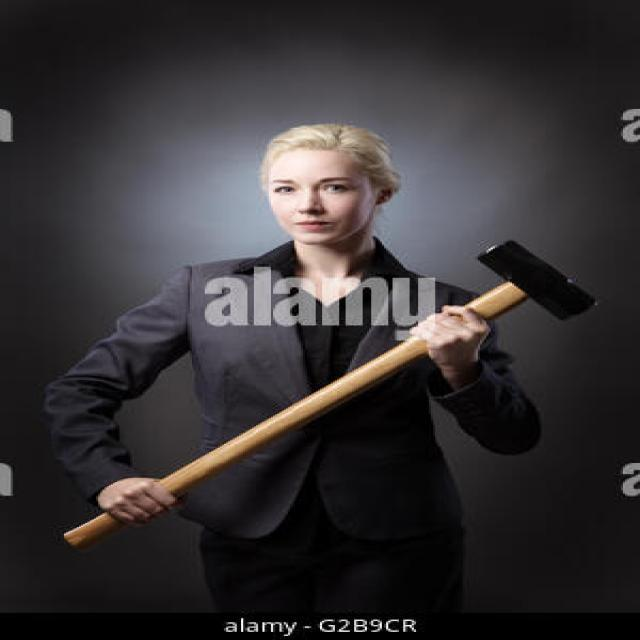hammer: (50, 231, 613, 555)
